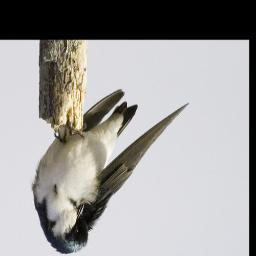Swallow: (30, 88, 189, 256)
